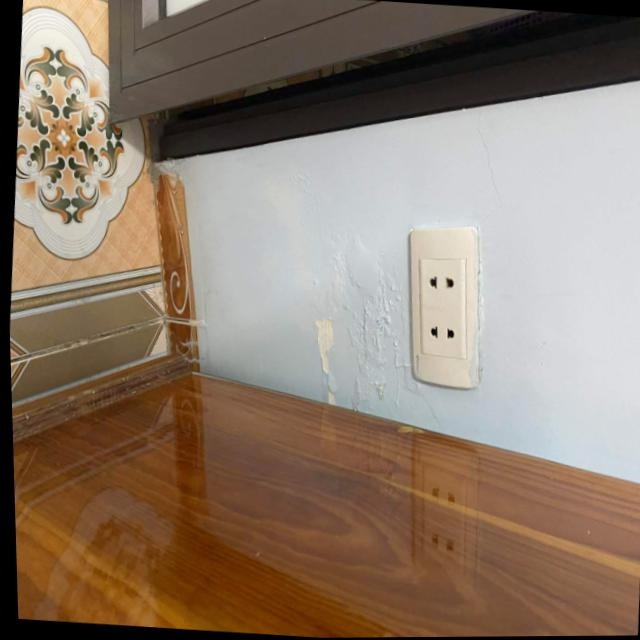outlet: (397, 220, 491, 391)
